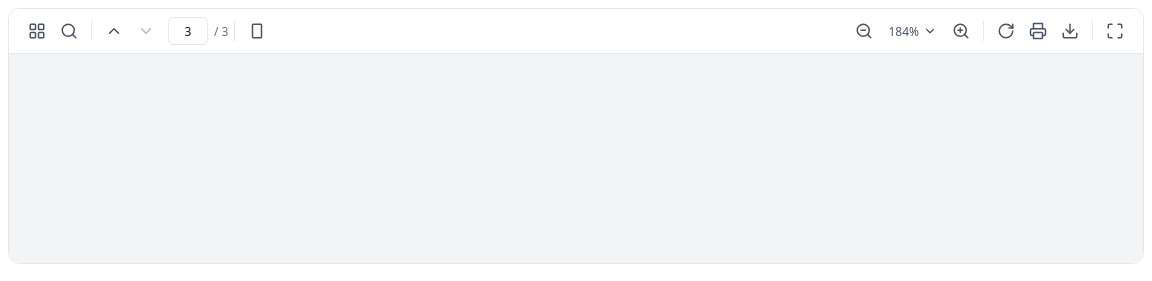
it: PdfViewer › zoom menu › offers a fit-page entry alongside fit-width
Expected: the element with class "rpp-toolbar" is shown, x1=9 y1=9 x2=1143 y2=54
Click the button "184%".
click(913, 31)  # box x1=880 y1=15 x2=945 y2=47
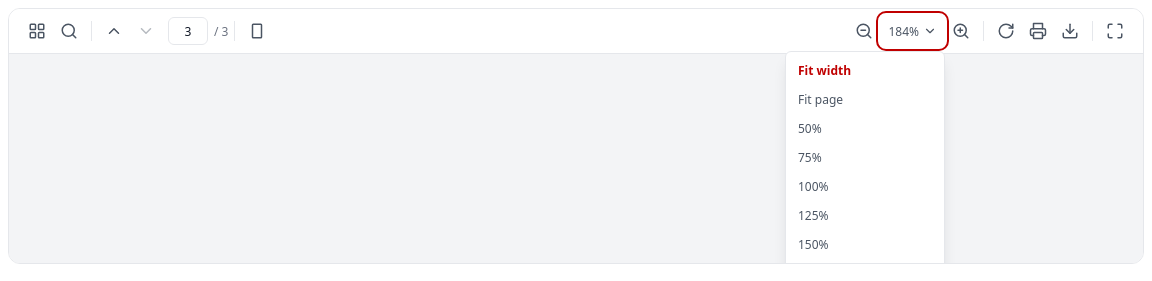
Expected: the menu item "Fit width" is shown, x1=786 y1=56 x2=944 y2=85
Expected: the menu item "Fit page" is shown, x1=786 y1=85 x2=944 y2=114
